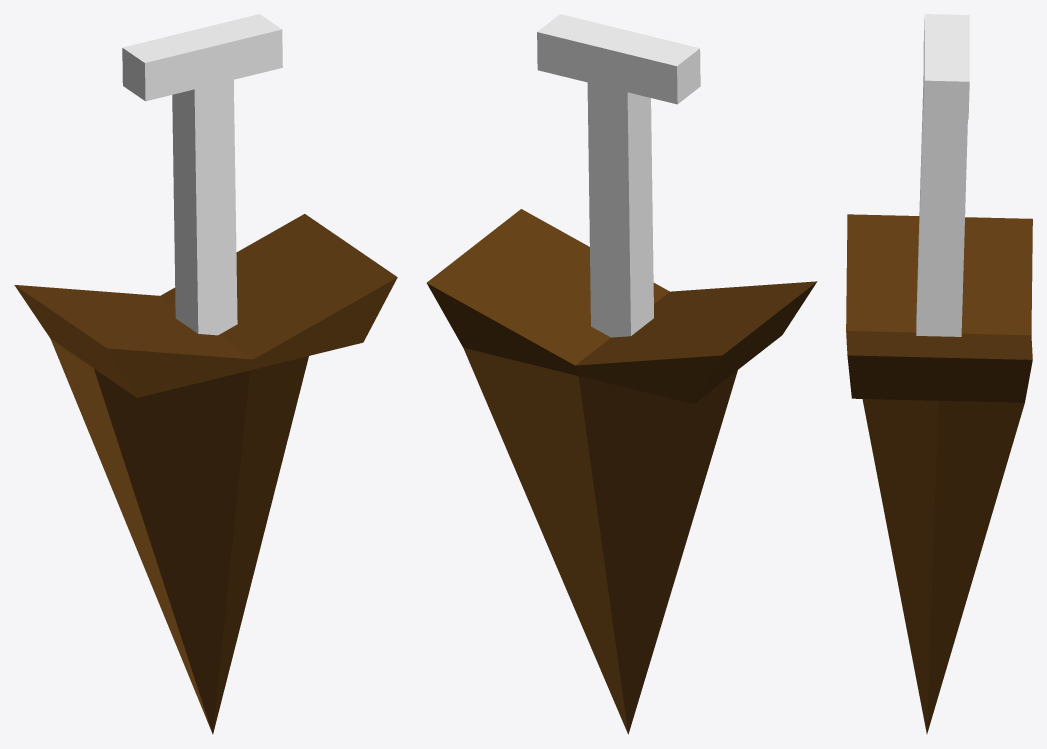
Rendered from obj_spike.fbx.
The picture shows the model from 3 angles, left to right: view 1: azimuth 30°, elevation 25°; view 2: azimuth 150°, elevation 25°; view 3: azimuth 270°, elevation 25°; orthographic projection. The views are drawn at different scales.
Parts seen in each view (by area): view 1: Obj_spike; view 2: Obj_spike; view 3: Obj_spike.
Boxes of the visible parts, box(x1,y1,x2,y2) form: Obj_spike: box(14, 14, 397, 734); Obj_spike: box(426, 14, 817, 734); Obj_spike: box(846, 14, 1032, 733).
Bounding box in the file's own units: 59.69 × 135 × 33.34.
